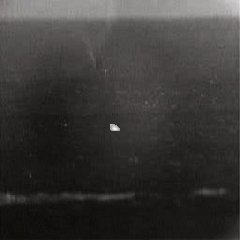Target: (109, 123, 121, 132)
